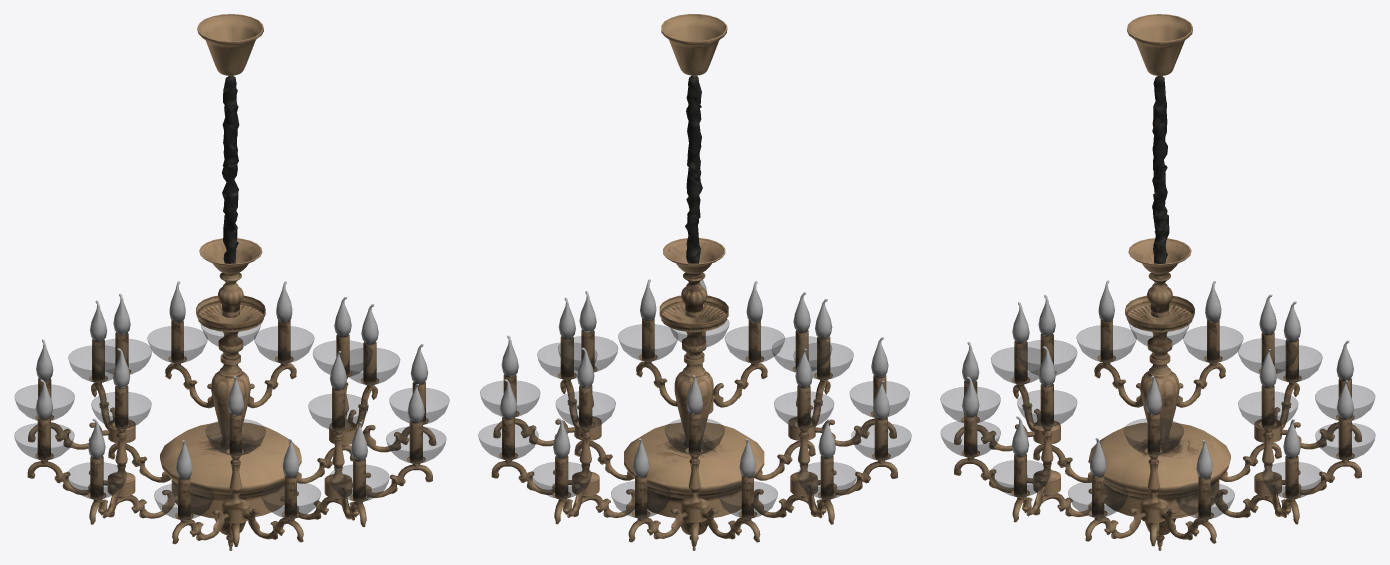
The model's file is Chandelier_03.glb.
The picture shows the model from 3 angles, left to right: view 1: azimuth 30°, elevation 25°; view 2: azimuth 150°, elevation 25°; view 3: azimuth 270°, elevation 25°; orthographic projection.
Parts seen in each view (by area): view 1: Chandelier_03; view 2: Chandelier_03; view 3: Chandelier_03.
Boxes of the visible parts, x1=… form: Chandelier_03: x1=14, y1=14, x2=449, y2=550; Chandelier_03: x1=478, y1=14, x2=911, y2=550; Chandelier_03: x1=940, y1=14, x2=1375, y2=550.
Size of the model in its own units: 0.7804 by 1.04 by 0.7854.
2 materials, 2 textured.
